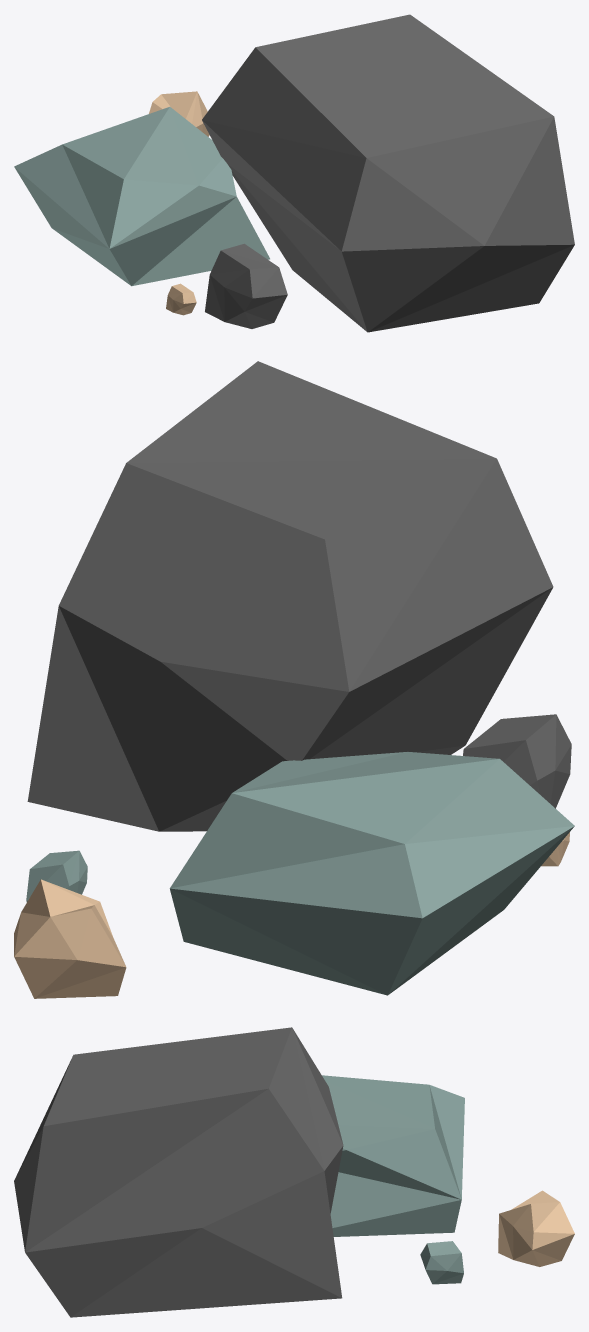
The model's file is Stones2_Final.fbx.
The picture shows the model from 3 angles, top to bottom: view 1: azimuth 30°, elevation 25°; view 2: azimuth 150°, elevation 25°; view 3: azimuth 270°, elevation 25°; orthographic projection. The views are drawn at different scales.
Visible parts, largest first — view 1: Stones2; view 2: Stones2; view 3: Stones2.
Boxes of the visible parts, x1,y1,x2,y2 form: Stones2: [14, 14, 574, 332]; Stones2: [14, 361, 574, 998]; Stones2: [14, 1027, 574, 1317].
Bounding box in the file's own units: 28.75 × 18 × 42.39.
